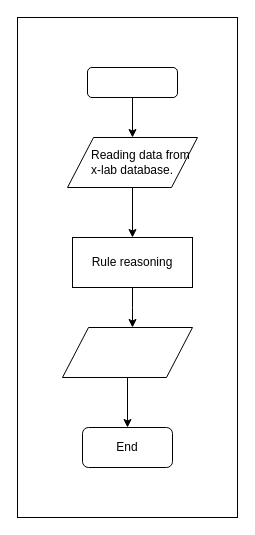
Some shapes in this 255 by 535 pixel diagram are drawn without their labels. The box of each missing label's shape, as (x1, y1, x2, y2) in pixels:
Return reasoning result to users.: (62, 326, 192, 378)
Start: (86, 66, 178, 98)
